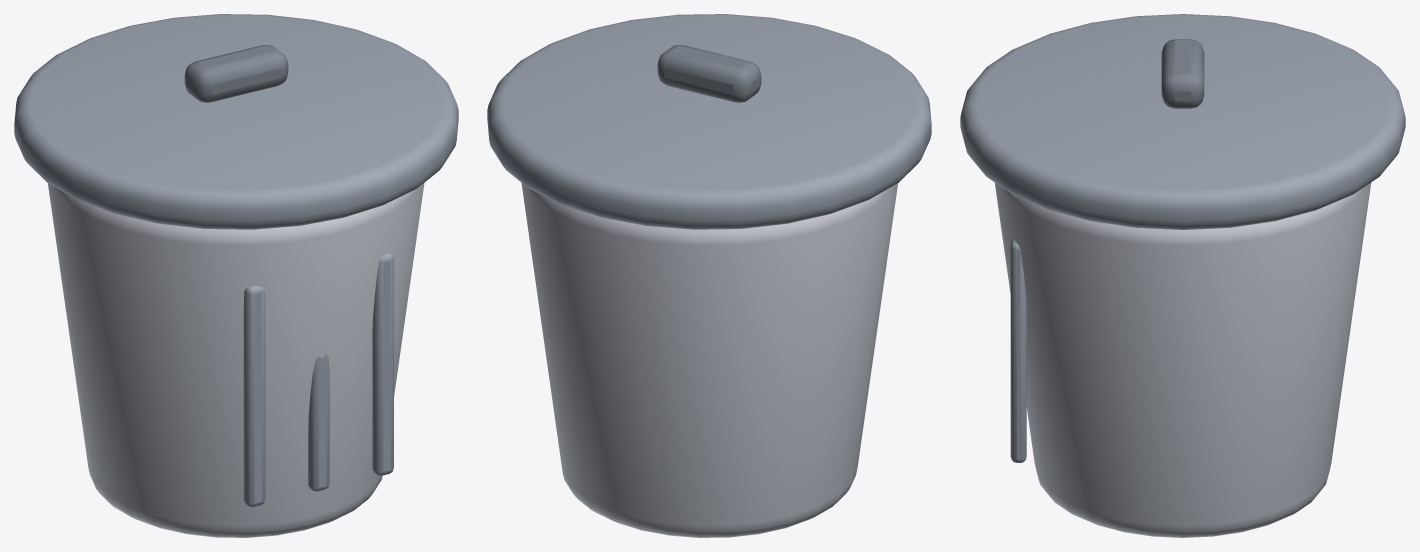
The model's file is bin.glb.
3 views of the same model, side by side, from view 1: azimuth 30°, elevation 25°; view 2: azimuth 150°, elevation 25°; view 3: azimuth 270°, elevation 25° (orthographic).
Parts seen in each view (by area): view 1: can, c9aa3b0, knob; view 2: can, c9aa3b0, knob; view 3: can, c9aa3b0, knob.
Part boxes in pixels (<box>): can: <box>48,183,424,537</box>; c9aa3b0: <box>14,14,458,507</box>; knob: <box>184,45,288,102</box>; can: <box>521,183,897,537</box>; c9aa3b0: <box>487,14,931,229</box>; knob: <box>657,45,761,102</box>; can: <box>994,182,1371,537</box>; c9aa3b0: <box>960,14,1405,462</box>; knob: <box>1161,39,1204,108</box>.
Size of the model in its own units: 0.84 by 0.885 by 0.84.
